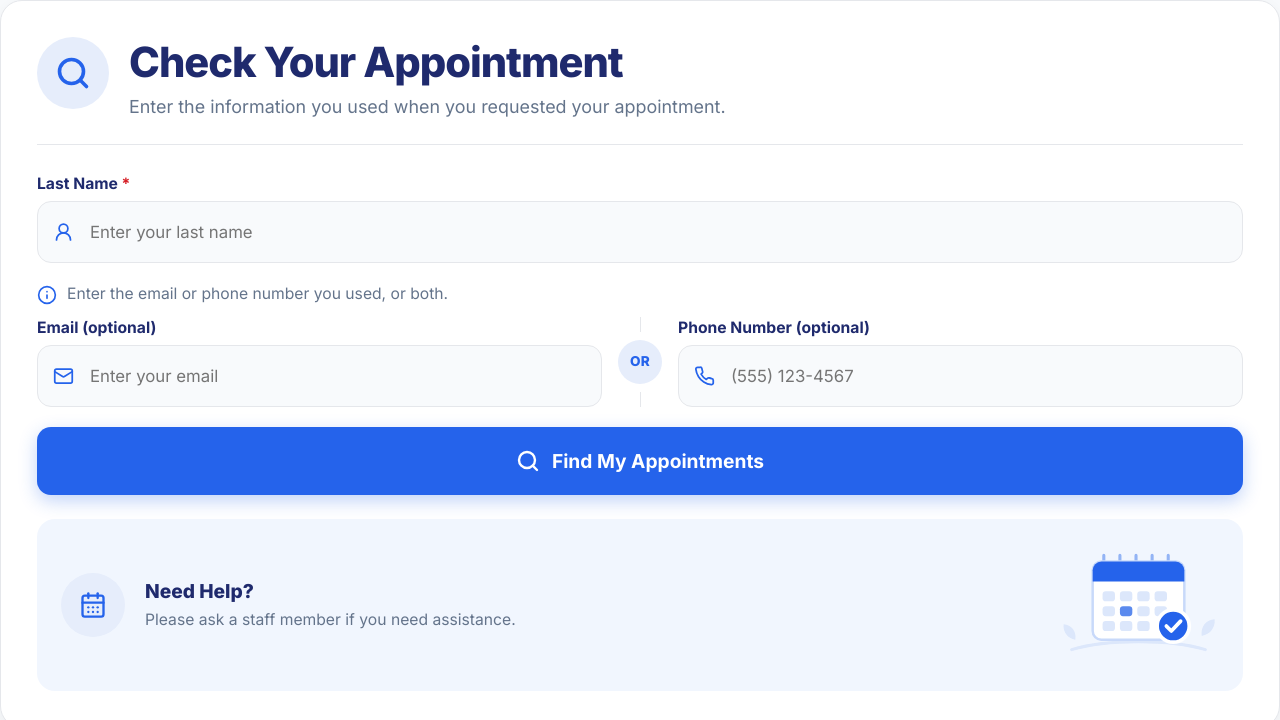
Scenario: AppointmentLookup › passes last name + email straight through to the lookup and lists what comes back
In the field labelled "Last Name *": (640,232) [37,201,1243,263], type "Pierre"
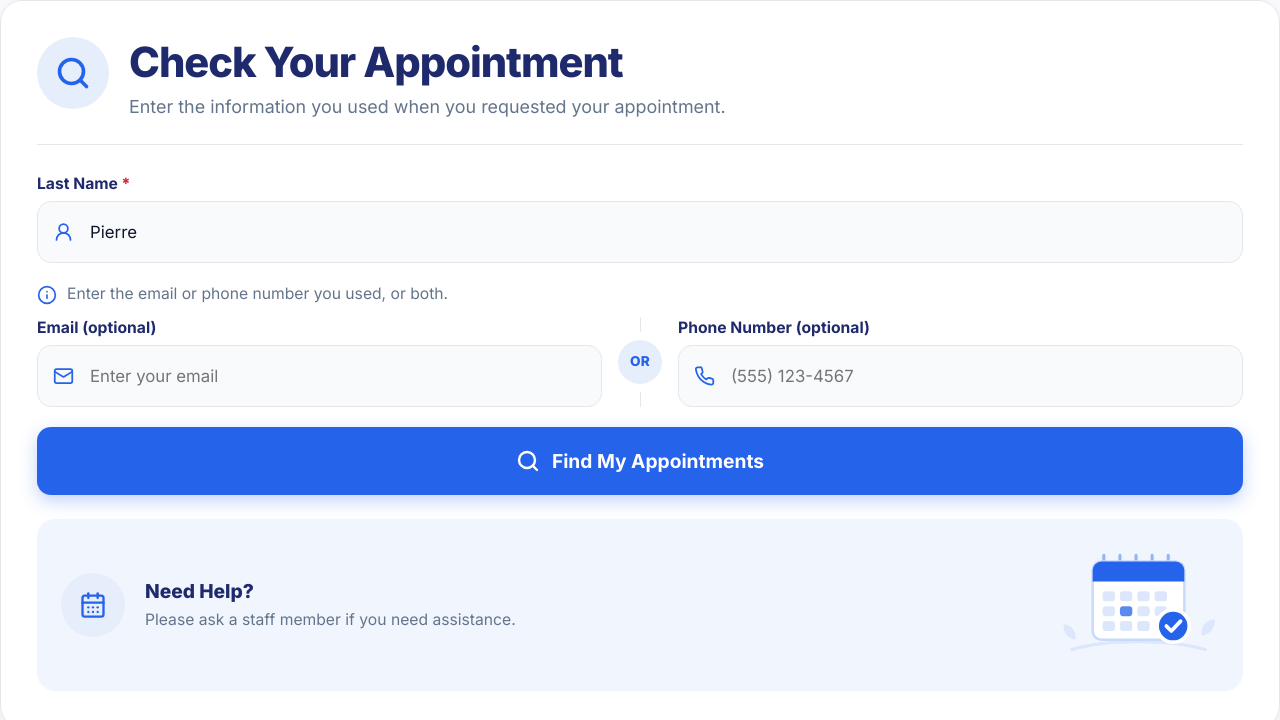
In the field labelled "Email (optional)": (320,376) [37,344,602,406], type "pierre@example.com"
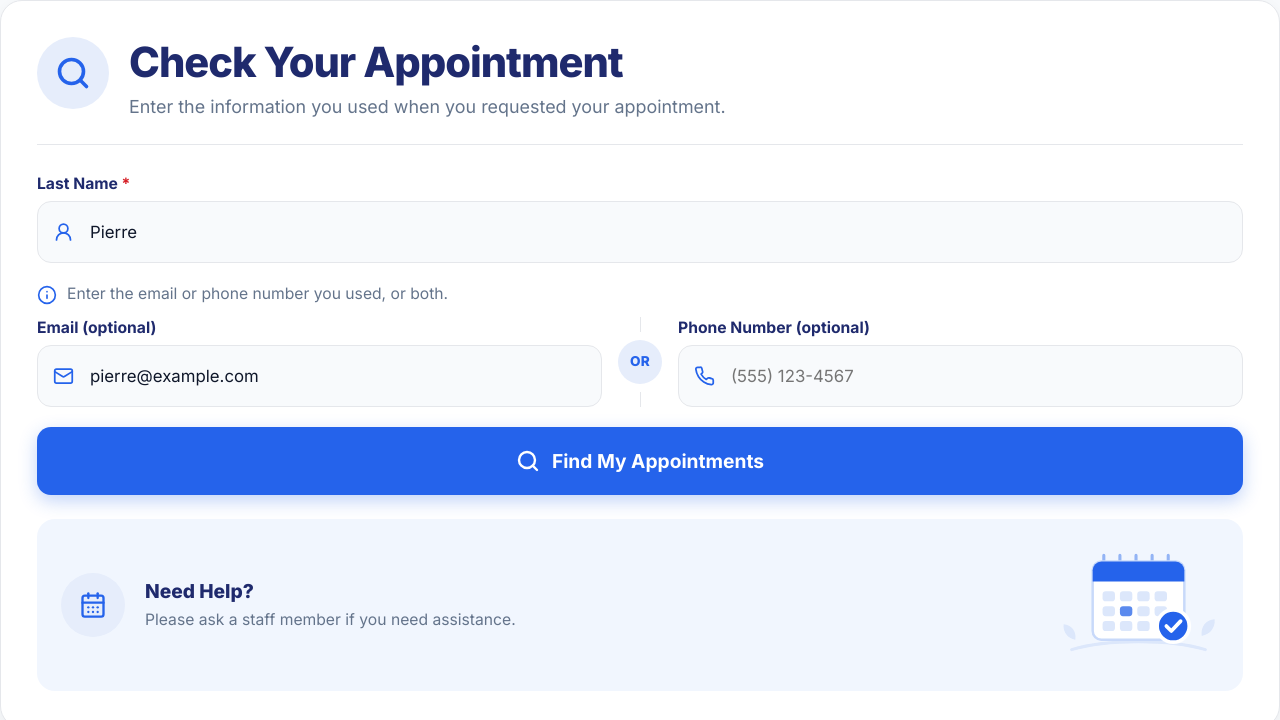
Click the button "Find My Appointments": (640,460) [37,426,1243,494]
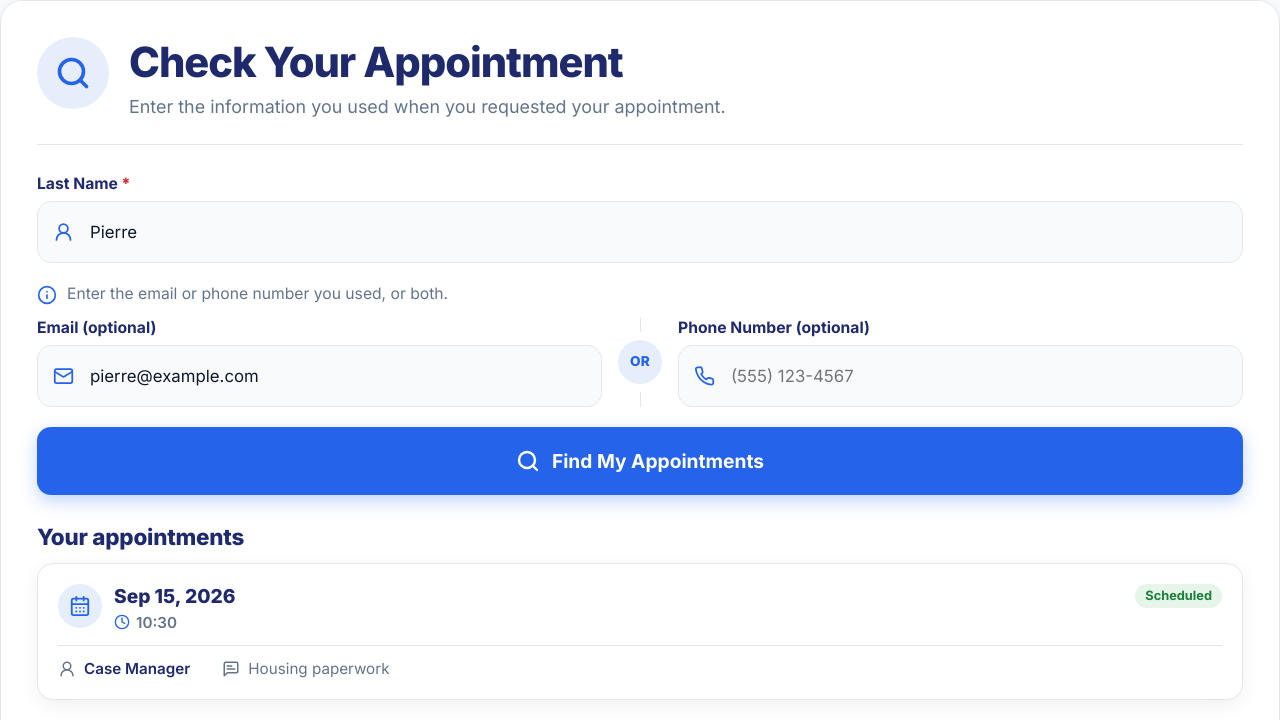
expect the text "Housing paperwork" is shown: met, box [248,658,390,679]
expect the text "Case Manager" is shown: met, box [84,658,190,679]
expect the text "Scheduled" is shown: met, box [1135,584,1222,608]
